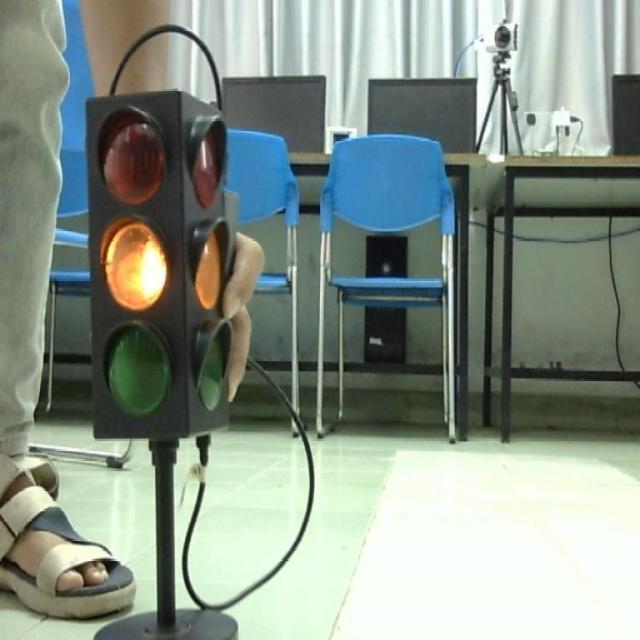yellow_light: (86, 89, 227, 436)
